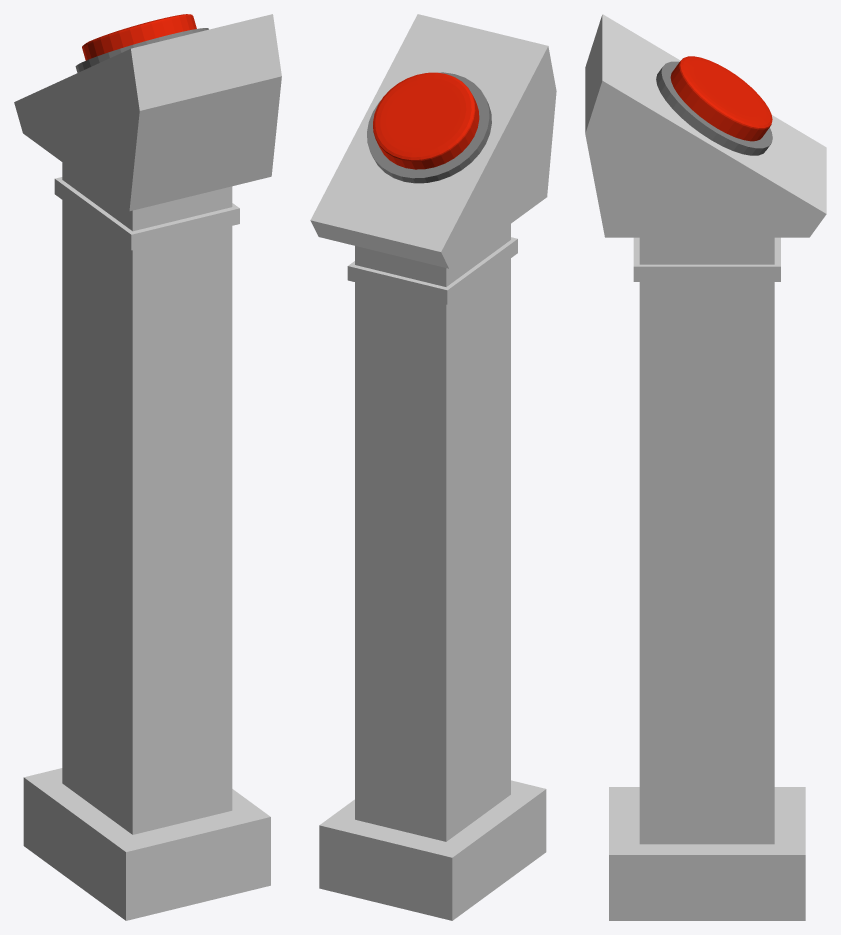
File: Button Part 2.fbx
3 renders of one model, left to right at view 1: azimuth 30°, elevation 25°; view 2: azimuth 150°, elevation 25°; view 3: azimuth 270°, elevation 25°, orthographic. The views are drawn at different scales.
Parts seen in each view (by area): view 1: button_pedestal, button_button; view 2: button_pedestal, button_button; view 3: button_pedestal, button_button.
Part boxes in pixels (x1,y1,x2,y2): button_pedestal: (14, 14, 281, 920); button_button: (82, 14, 196, 60); button_pedestal: (310, 14, 556, 920); button_button: (373, 72, 479, 169); button_pedestal: (585, 14, 826, 920); button_button: (670, 56, 772, 141).
Size of the model in its own units: 26.05 by 150 by 39.18.
